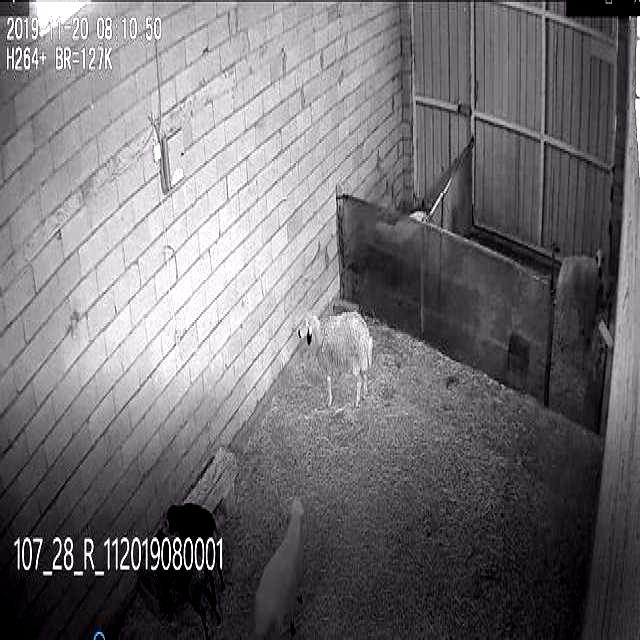sheep: (298, 308, 372, 408)
